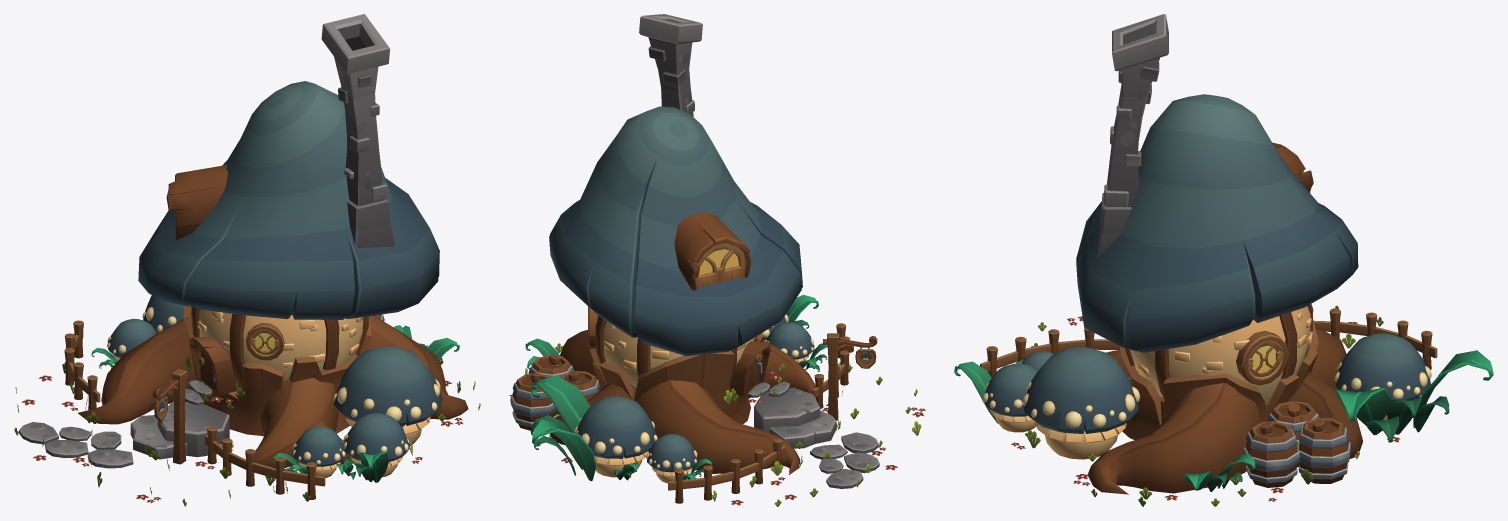
File: house munsroom plan.fbx
3 views of the same model, side by side, from view 1: azimuth 30°, elevation 25°; view 2: azimuth 150°, elevation 25°; view 3: azimuth 270°, elevation 25° (orthographic). The views are drawn at different scales.
Parts seen in each view (by area): view 1: House, Mushroom.002, Fence, Mushroom.003, Rocks.002, Grass, Mushroom.004, Sign, Fence.001, Rocks, Mushroom.001, Mushroom (+5 smaller); view 2: House, Mushroom, Leaf.005, Fence.001, Rocks.002, Mushroom.001, Grass, Barriel.002, Sign, Rocks, Mushroom.004, Fence (+6 smaller); view 3: House, Mushroom.002, Mushroom, Leaf.005, Barriel.001, Barriel.002, Mushroom.003, Fence, Fence.001, Grass, Barriel, Leaf (+1 smaller).
Part boxes in pixels (bbox=[...]): House: bbox=[78, 14, 468, 468]; Mushroom.002: bbox=[333, 346, 442, 446]; Fence: bbox=[205, 426, 325, 499]; Mushroom.003: bbox=[343, 413, 409, 476]; Rocks.002: bbox=[157, 401, 229, 457]; Grass: bbox=[14, 355, 480, 506]; Mushroom.004: bbox=[292, 426, 346, 477]; Sign: bbox=[152, 369, 187, 464]; Fence.001: bbox=[64, 320, 100, 409]; Rocks: bbox=[130, 415, 187, 459]; Mushroom.001: bbox=[107, 318, 157, 359]; Mushroom: bbox=[142, 295, 183, 333]; House: bbox=[549, 14, 815, 474]; Mushroom: bbox=[574, 396, 657, 477]; Leaf.005: bbox=[530, 375, 596, 481]; Fence.001: bbox=[668, 438, 785, 503]; Rocks.002: bbox=[754, 387, 820, 432]; Mushroom.001: bbox=[646, 434, 697, 483]; Grass: bbox=[509, 343, 925, 506]; Barriel.002: bbox=[510, 373, 557, 430]; Sign: bbox=[823, 333, 877, 420]; Rocks: bbox=[770, 410, 836, 448]; Mushroom.004: bbox=[766, 322, 814, 362]; Fence: bbox=[812, 323, 850, 408]; House: bbox=[1076, 14, 1362, 494]; Mushroom.002: bbox=[1022, 347, 1139, 459]; Mushroom: bbox=[1334, 333, 1431, 420]; Leaf.005: bbox=[1335, 350, 1493, 442]; Barriel.001: bbox=[1243, 421, 1300, 487]; Barriel.002: bbox=[1297, 418, 1350, 483]; Mushroom.003: bbox=[982, 363, 1037, 432]; Fence: bbox=[980, 328, 1119, 377]; Fence.001: bbox=[1313, 308, 1437, 369]; Grass: bbox=[1011, 305, 1400, 506]; Barriel: bbox=[1267, 401, 1319, 467]; Leaf: bbox=[1184, 454, 1255, 491].
Bounding box in the file's own units: 279 × 259 × 297.
